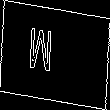M_S: (42, 28, 68, 82)
